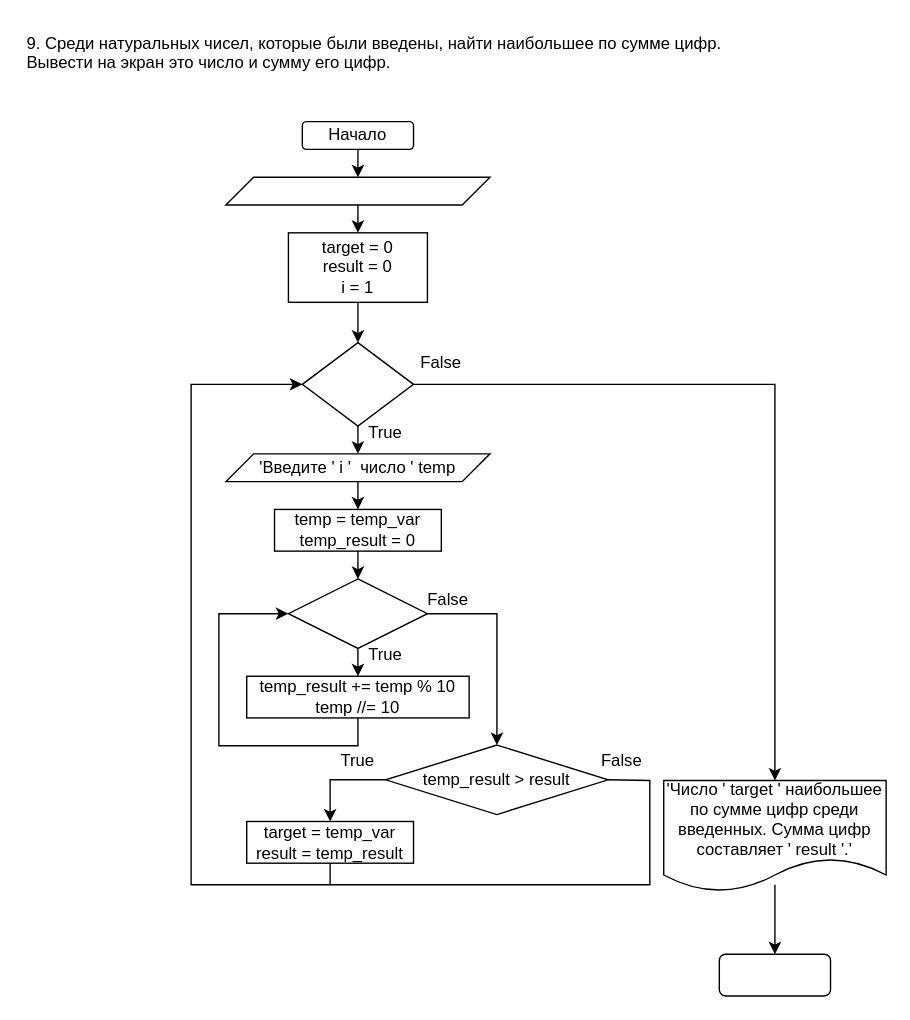
This 910x1020 diagram has some shape labels left out. The centre of each missing label's shape, as x and y in pixels:
"'Сколько будет чисел? ' n" goes at point 357,190.
"i<n+1" goes at point 357,383.
"temp//1" goes at point 357,613.
"Конец" goes at point 774,974.
